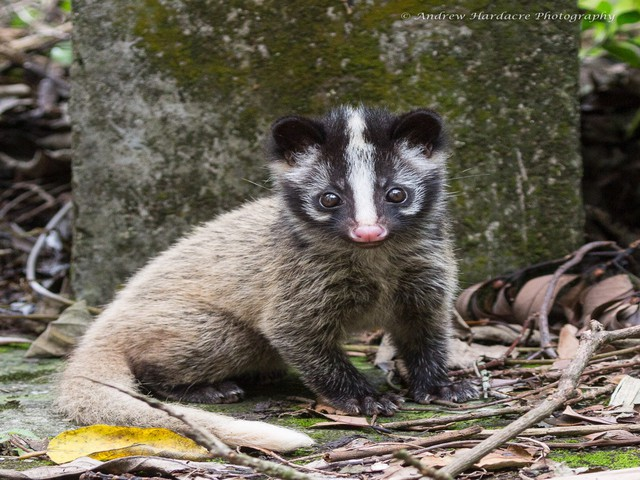civet: (47, 103, 481, 454)
